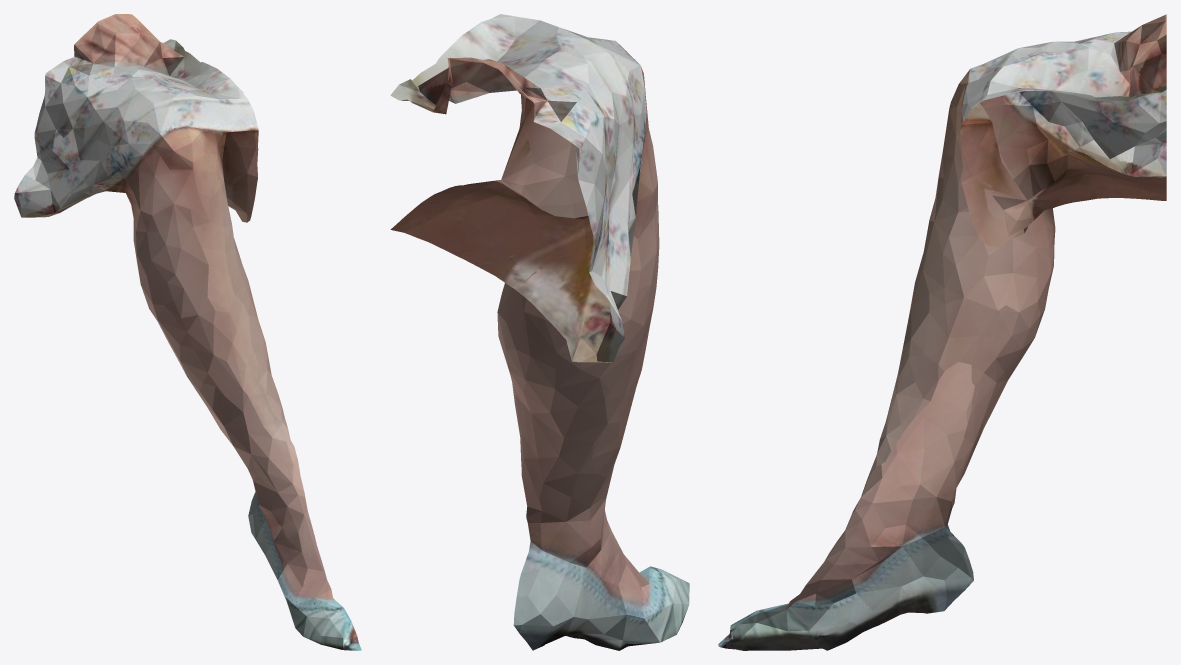
3 renders of one model, left to right at view 1: azimuth 30°, elevation 25°; view 2: azimuth 150°, elevation 25°; view 3: azimuth 270°, elevation 25°, orthographic. The views are drawn at different scales.
Parts seen in each view (by area): view 1: 091_W_Aya_100K_01; view 2: 091_W_Aya_100K_01; view 3: 091_W_Aya_100K_01.
Boxes of the visible parts, <box> form: 091_W_Aya_100K_01: <box>14,14,361,650</box>; 091_W_Aya_100K_01: <box>390,14,689,650</box>; 091_W_Aya_100K_01: <box>718,14,1166,650</box>.
Bounding box in the file's own units: 180 × 565 × 383.
1 material, 1 textured.
